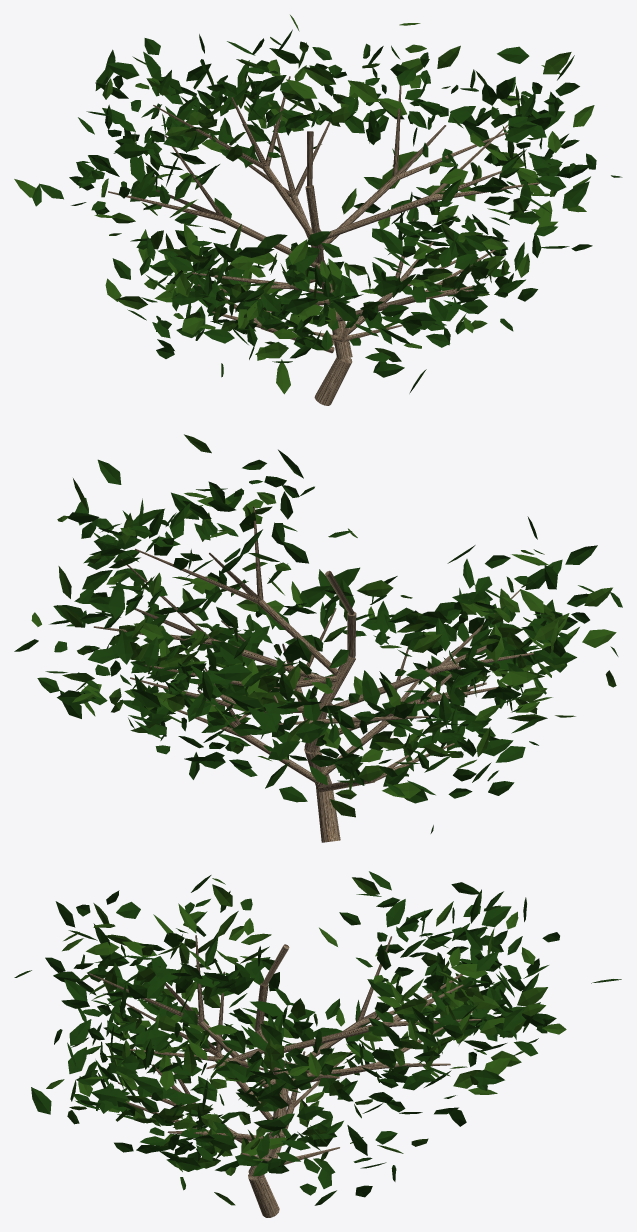
Rendered from bush.obj.
The picture shows the model from 3 angles, top to bottom: view 1: azimuth 30°, elevation 25°; view 2: azimuth 150°, elevation 25°; view 3: azimuth 270°, elevation 25°; orthographic projection. The views are drawn at different scales.
Parts seen in each view (by area): view 1: Leaf_Green, Leaf_Light, Tree_Bark; view 2: Leaf_Green, Leaf_Light, Tree_Bark; view 3: Leaf_Green, Leaf_Light, Tree_Bark.
Part boxes in pixels (x1,y1,x2,y2): Leaf_Green: (32, 29, 622, 393); Leaf_Light: (14, 15, 594, 394); Tree_Bark: (108, 76, 539, 405); Leaf_Green: (14, 449, 622, 833); Leaf_Light: (31, 434, 616, 817); Tree_Bark: (93, 506, 533, 842); Leaf_Green: (14, 871, 621, 1205); Leaf_Light: (46, 877, 566, 1205); Tree_Bark: (89, 935, 481, 1217).
Size of the model in its own units: 4.42 by 2.55 by 4.63.
Materials: 3 (1 with a texture image).
